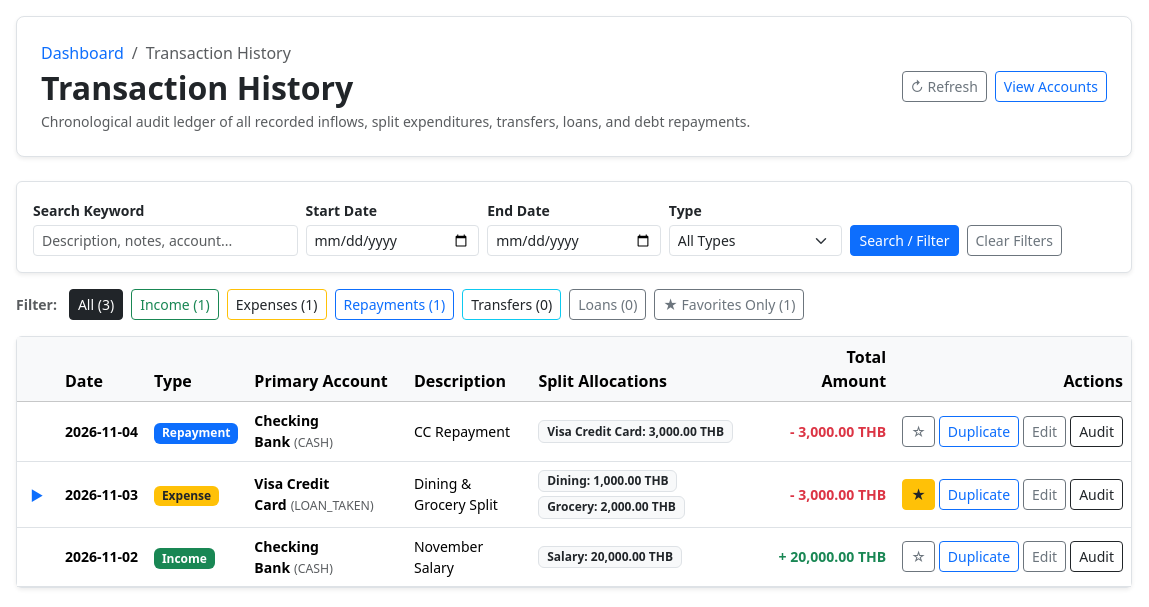
Test: Frontend Transaction History Suite (WP-06, Feature F-09, AC-09-1) › TEST-UI-FAV-01: toggles favorite star on a transaction row and filters Favorites Only (F-14, AC-14-1)
Note: Toggle favorite on tx-salary
Step 1. Click the button with test id "btn-favorite-tx-salary" → (918, 557), box x1=902 y1=541 x2=935 y2=572
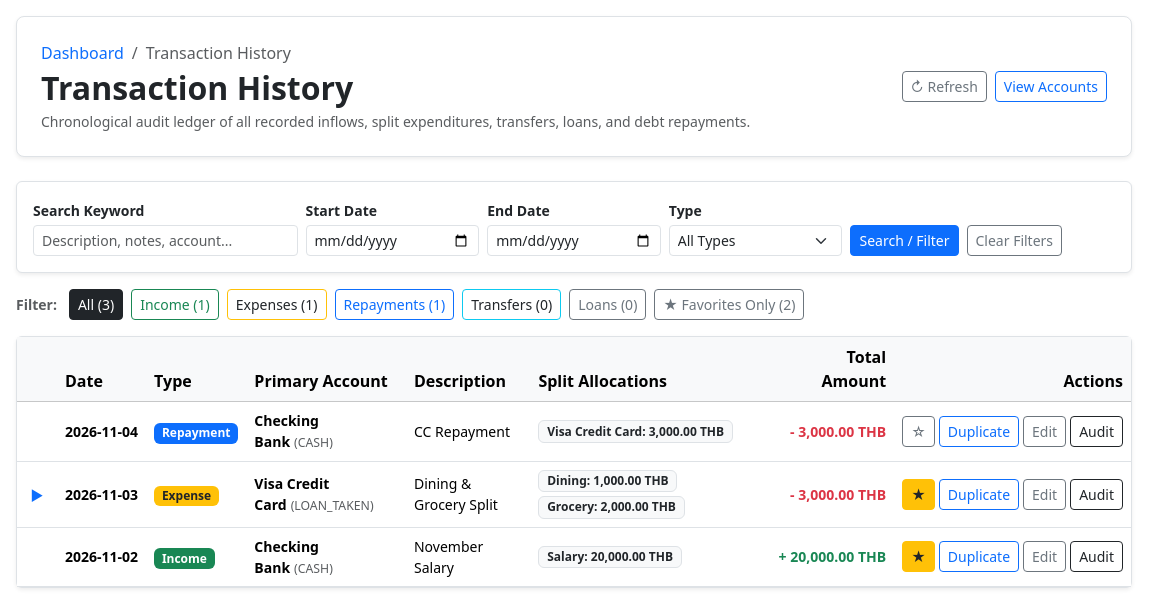
Check: the button with test id "btn-favorite-tx-salary" reads "★", box x1=902 y1=541 x2=935 y2=572
Step 2. Click the button with test id "filter-favorites-only" → (729, 305), box x1=654 y1=289 x2=804 y2=320
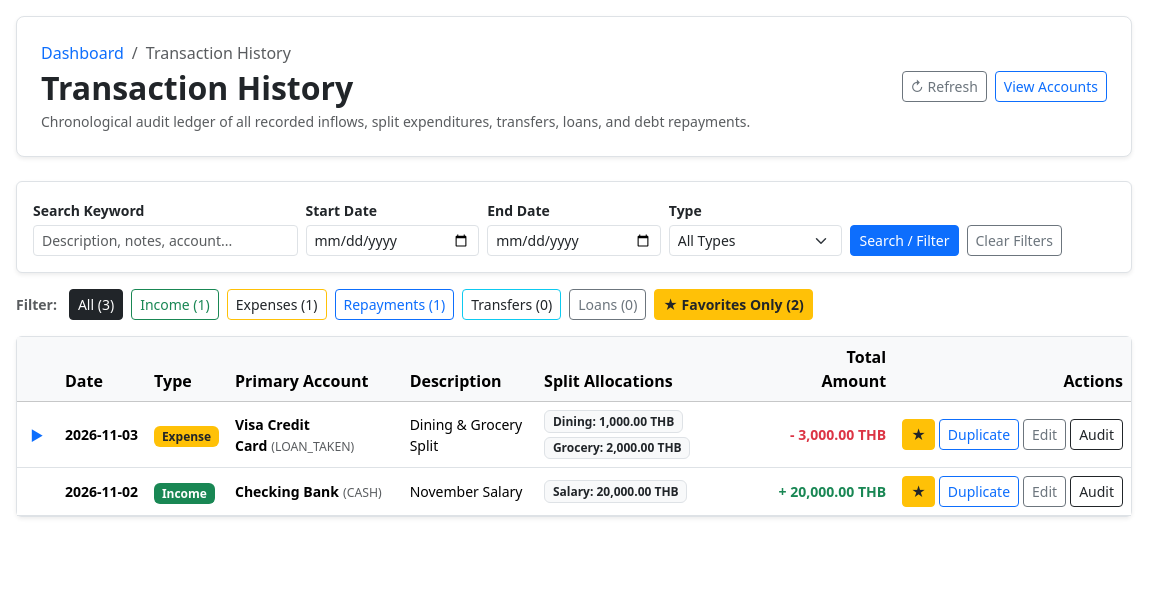
Check: the row with test id "txn-row-tx-purchase" is shown, box x1=17 y1=402 x2=1131 y2=468
Check: the row with test id "txn-row-tx-repay" is gone
